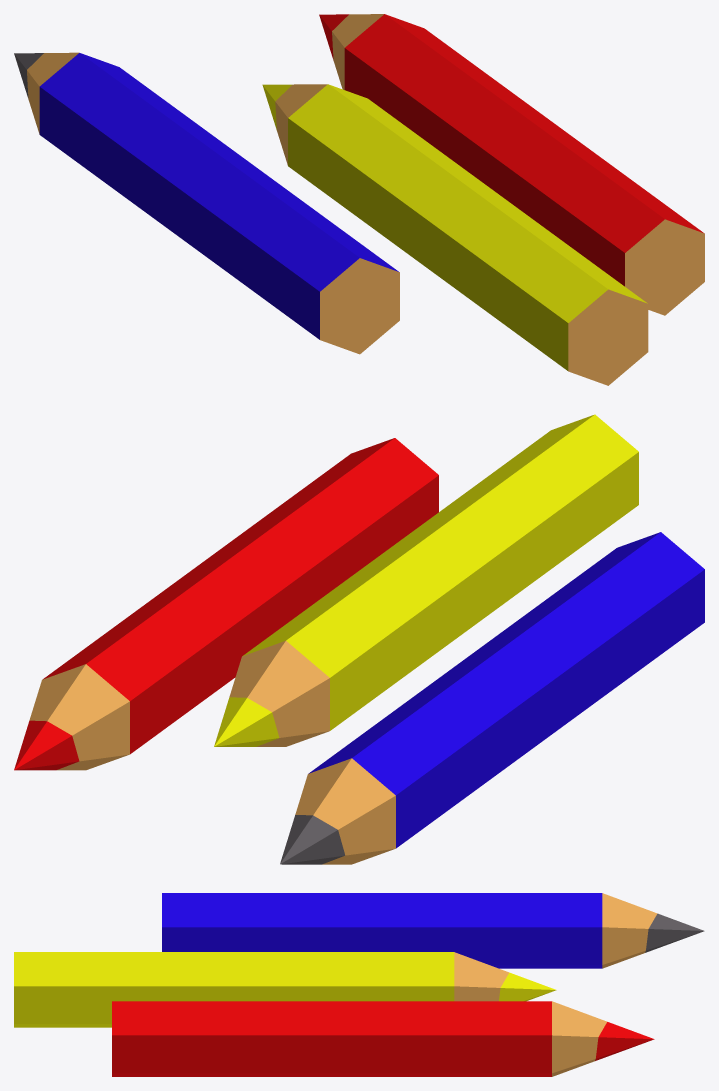
The model's file is colors_pencil.glb.
3 renders of one model, top to bottom at view 1: azimuth 30°, elevation 25°; view 2: azimuth 150°, elevation 25°; view 3: azimuth 270°, elevation 25°, orthographic. The views are drawn at different scales.
Visible parts, largest first — view 1: Cylinder.008, Cylinder.004, Cylinder.007; view 2: Cylinder.004, Cylinder.008, Cylinder.007; view 3: Cylinder.007, Cylinder.004, Cylinder.008.
Boxes of the visible parts, <box> form: Cylinder.008: <box>262,84,648,385</box>; Cylinder.004: <box>14,52,399,354</box>; Cylinder.007: <box>319,14,704,315</box>; Cylinder.004: <box>280,532,704,864</box>; Cylinder.008: <box>214,414,638,746</box>; Cylinder.007: <box>14,438,438,770</box>; Cylinder.007: <box>112,1001,654,1076</box>; Cylinder.004: <box>162,893,704,968</box>; Cylinder.008: <box>14,952,556,1027</box>.
Size of the model in its own units: 0.8628 by 0.2361 by 1.86.
